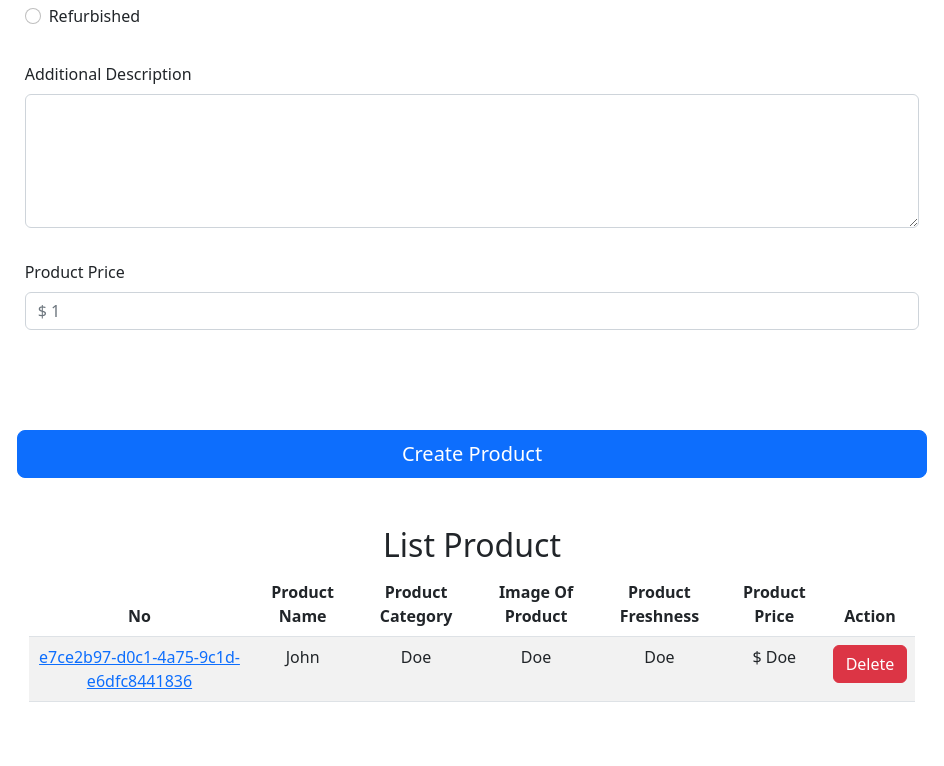
Scenario: should show error messages when all form fields are empty
(page scrolled)
Click the button "Create Product": x=472, y=454 [17, 430, 927, 478]
(page scrolled)
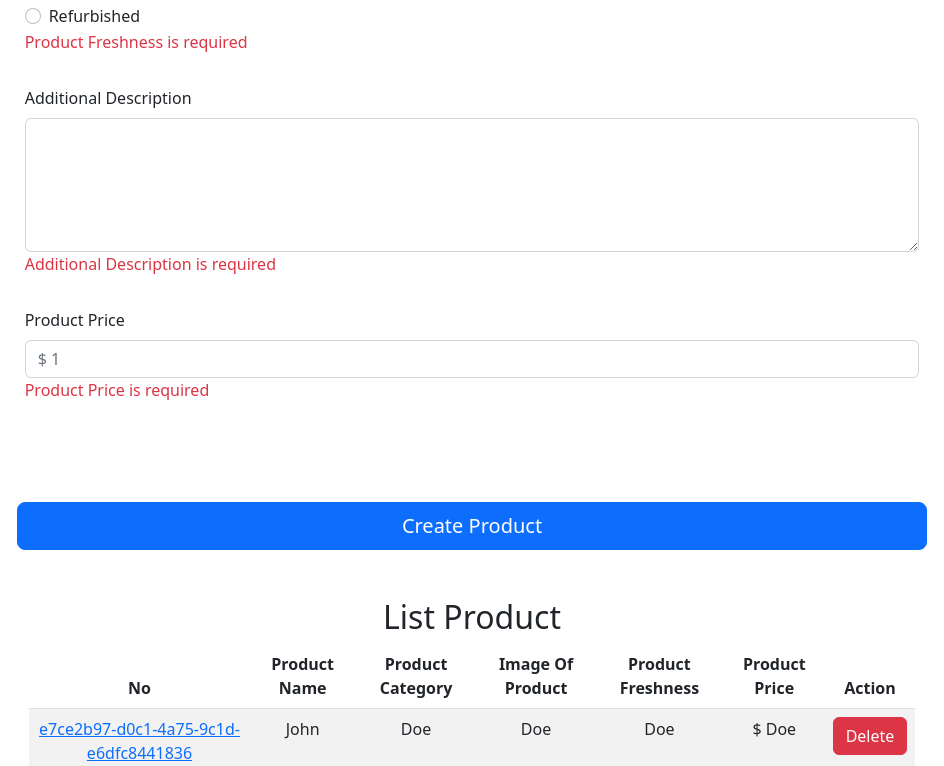
Now the text "Product Freshness is required" is shown, box [25, 31, 248, 53]
Now the text "Product Price is required" is shown, box [25, 379, 209, 401]
Now the text "Additional Description is required" is shown, box [25, 253, 276, 275]
